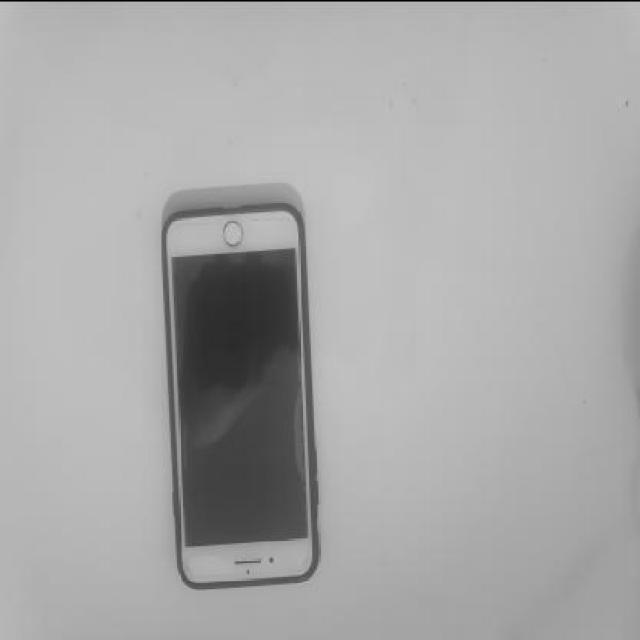fake: (160, 200, 320, 586)
